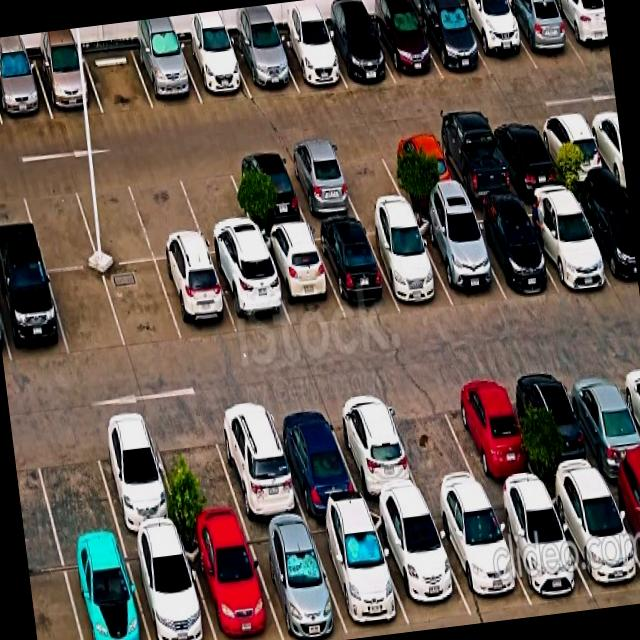car: (307, 511, 411, 639), (243, 521, 348, 640), (487, 489, 592, 606), (428, 496, 531, 615), (369, 506, 471, 624), (442, 373, 541, 494), (209, 400, 305, 524), (546, 478, 640, 604), (324, 391, 424, 506), (182, 527, 282, 640), (267, 398, 362, 516), (510, 365, 603, 485), (89, 417, 181, 538), (123, 534, 215, 640), (518, 191, 612, 290), (560, 361, 640, 477), (413, 211, 506, 306), (464, 204, 556, 299), (60, 541, 148, 640), (259, 228, 345, 329), (311, 221, 399, 318), (362, 217, 453, 309), (155, 255, 237, 342), (209, 249, 291, 334), (570, 186, 638, 287), (431, 126, 515, 204), (0, 268, 68, 364), (227, 152, 307, 231), (280, 146, 359, 222), (380, 133, 461, 205), (458, 4, 537, 77), (501, 0, 583, 69), (487, 117, 563, 191), (534, 111, 610, 183), (369, 11, 442, 85), (415, 8, 490, 79), (321, 20, 395, 88), (131, 42, 202, 109), (178, 39, 251, 104), (33, 52, 102, 119), (274, 29, 346, 92), (230, 34, 298, 97), (549, 0, 610, 62), (0, 58, 52, 125), (604, 471, 640, 563)
free: (380, 381, 485, 503), (149, 413, 245, 532), (29, 423, 120, 547), (176, 158, 259, 254), (72, 172, 154, 265), (127, 167, 207, 259), (20, 178, 98, 270), (102, 260, 182, 349), (47, 267, 125, 356), (328, 140, 407, 214), (83, 46, 153, 113)
